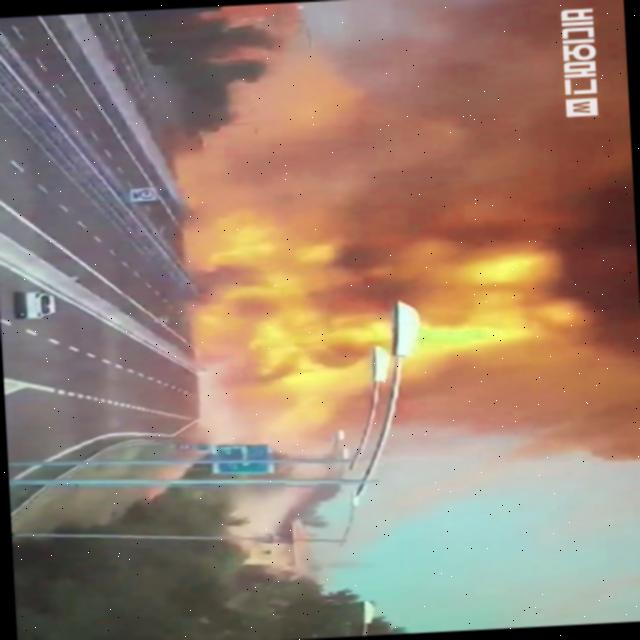explosion: (112, 0, 640, 558)
